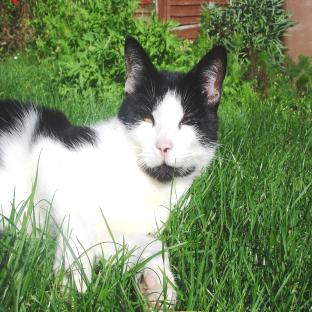Animal: (0, 36, 227, 309)
